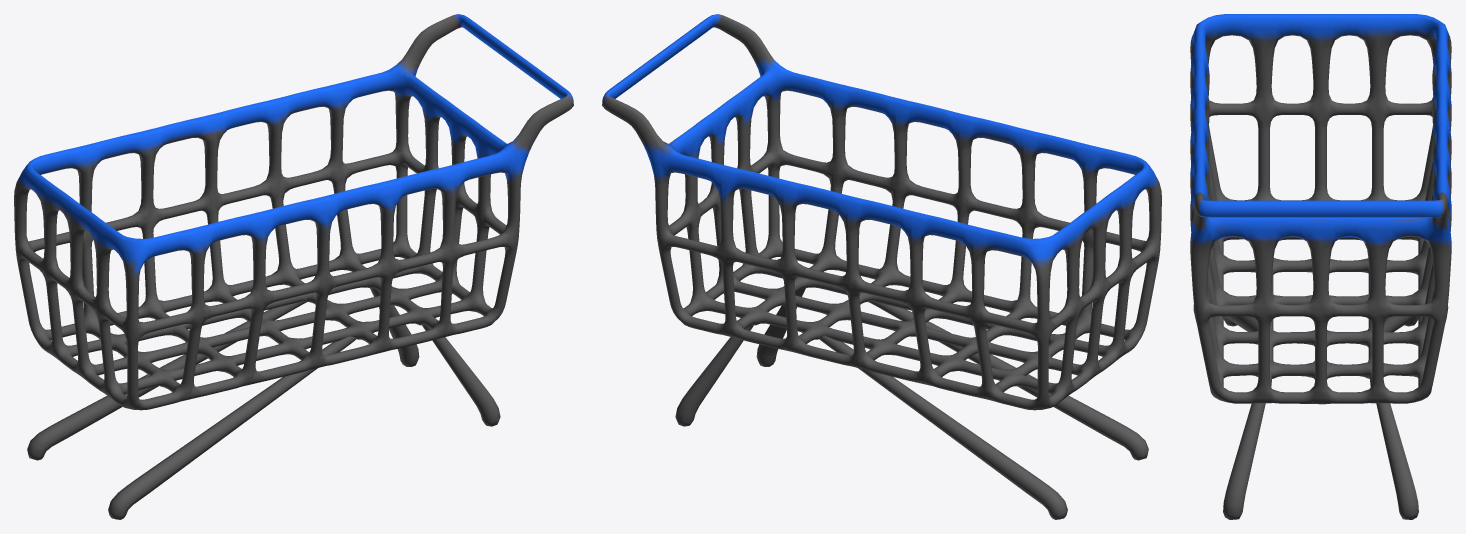
File: cart.glb
3 renders of one model, left to right at view 1: azimuth 30°, elevation 25°; view 2: azimuth 150°, elevation 25°; view 3: azimuth 270°, elevation 25°, orthographic. The views are drawn at different scales.
Visible parts, largest first — view 1: BasketDND.002; view 2: BasketDND.002; view 3: BasketDND.002.
Boxes of the visible parts, <box> form: BasketDND.002: <box>14,14,573,519</box>; BasketDND.002: <box>602,14,1161,519</box>; BasketDND.002: <box>1190,14,1451,519</box>.
Size of the model in its own units: 22.01 by 15.33 by 10.21.
1 material, 1 textured.
